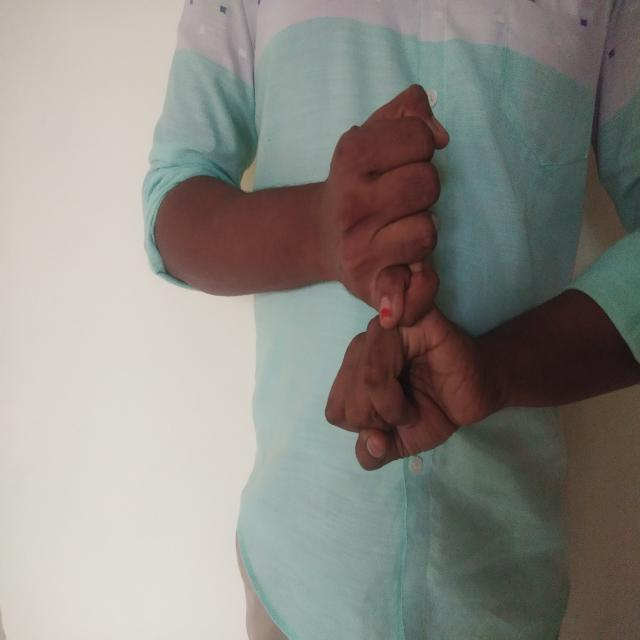S: (303, 76, 495, 492)
